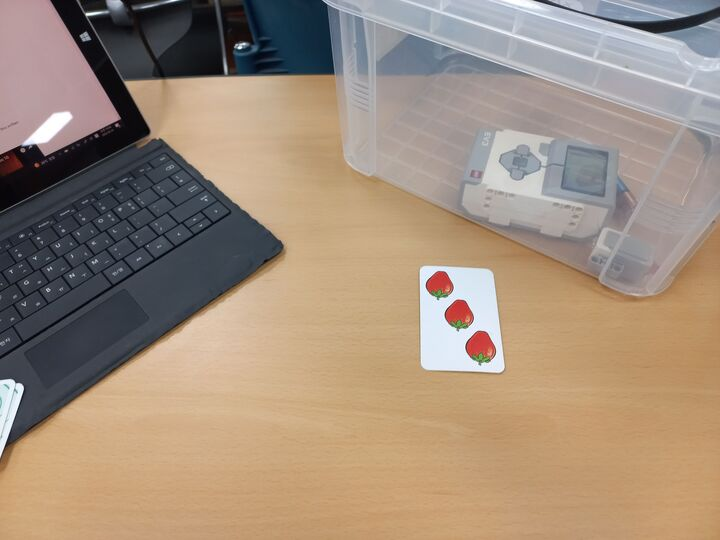strawberry3: (418, 263, 505, 375)
